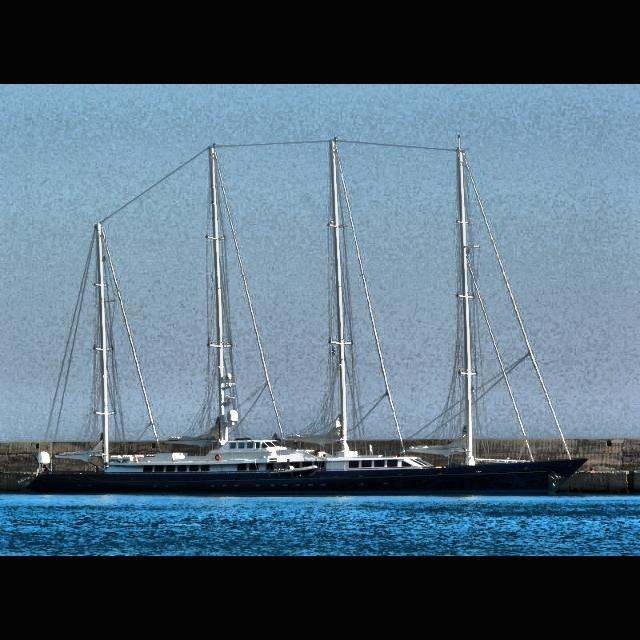sailing_vessel: (24, 136, 590, 496)
